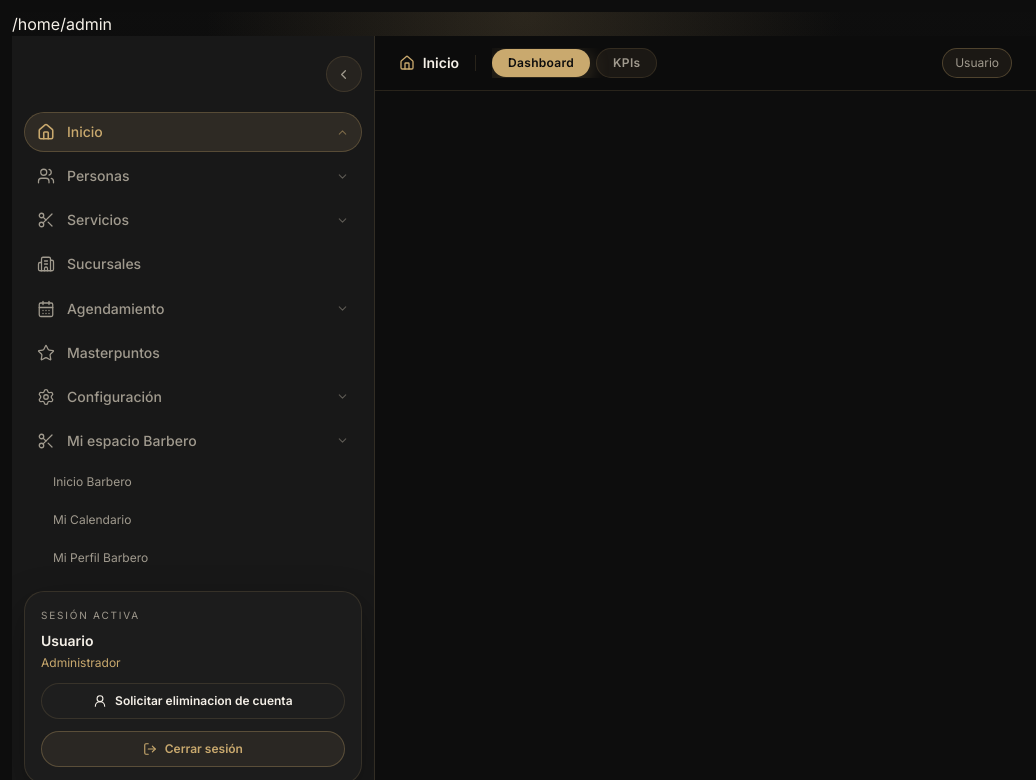
Test: escritorio: cambia de panel, navega y vuelve con la misma sesión admin
The width and height of the screenshot is (1036, 780).
Click the button named "Colapsar sidebar" at (344, 74), box [326, 56, 362, 92]
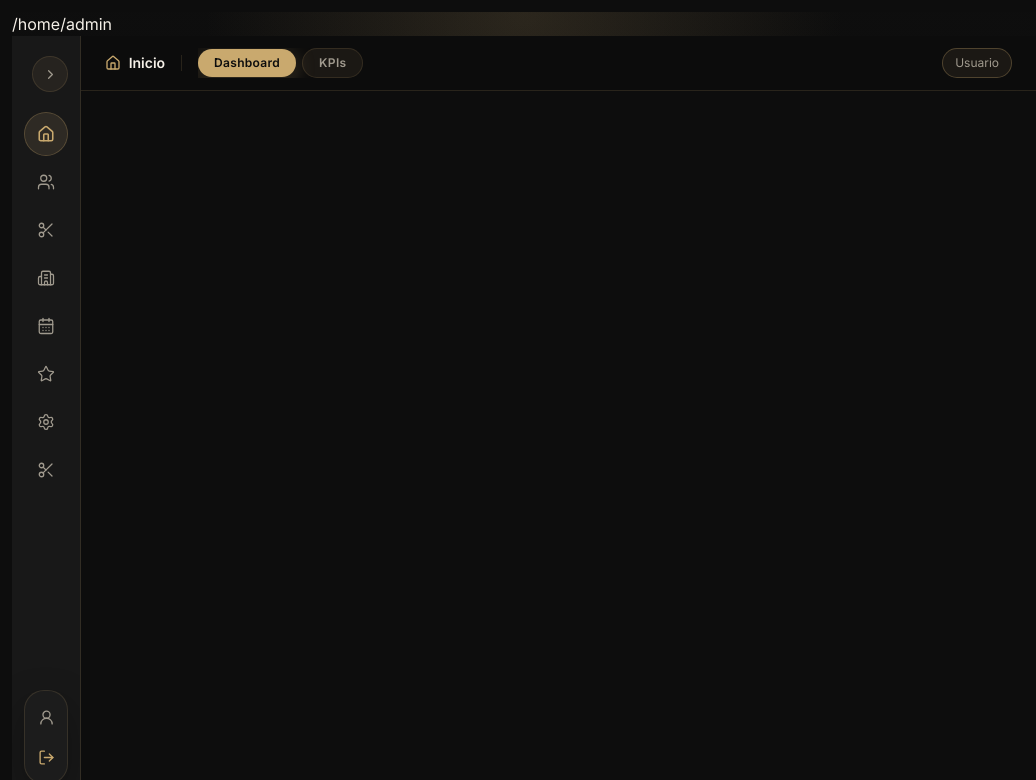
Check: the button named "Mi espacio Barbero" has attribute title="Mi espacio Barbero"
Click the button named "Mi espacio Barbero" at (46, 470), box [24, 448, 68, 492]
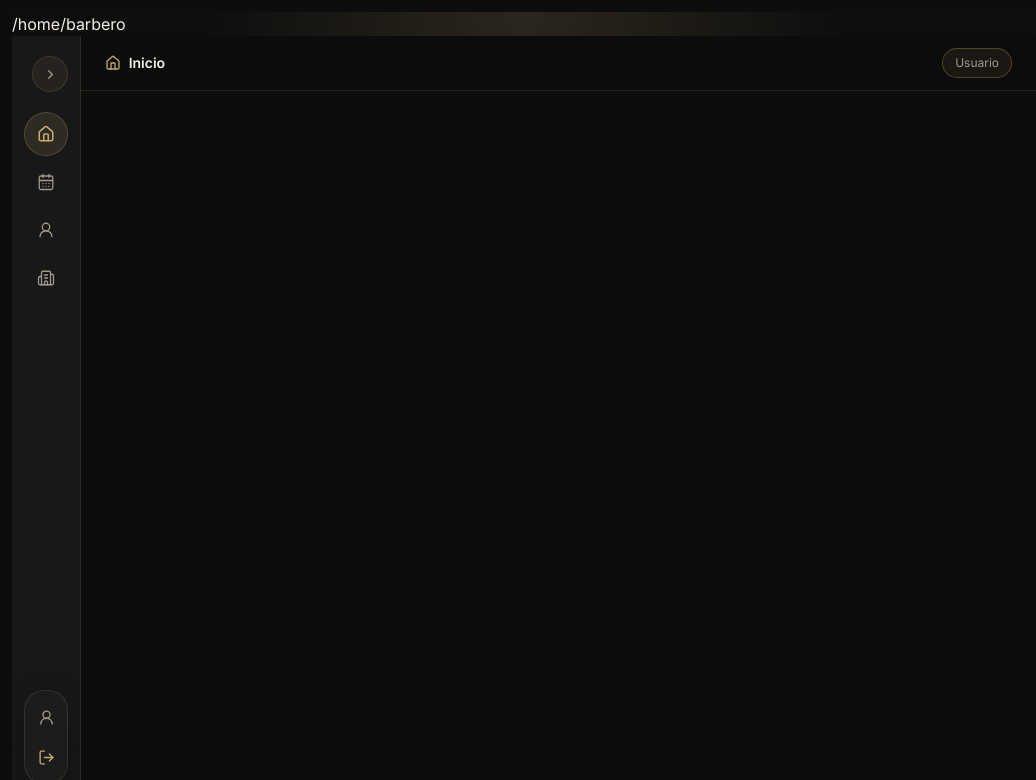
Check: the text with test id "location" reads "/home/barbero", box [12, 14, 126, 34]
Click the button named "Calendario" at (46, 182), box [24, 160, 68, 204]
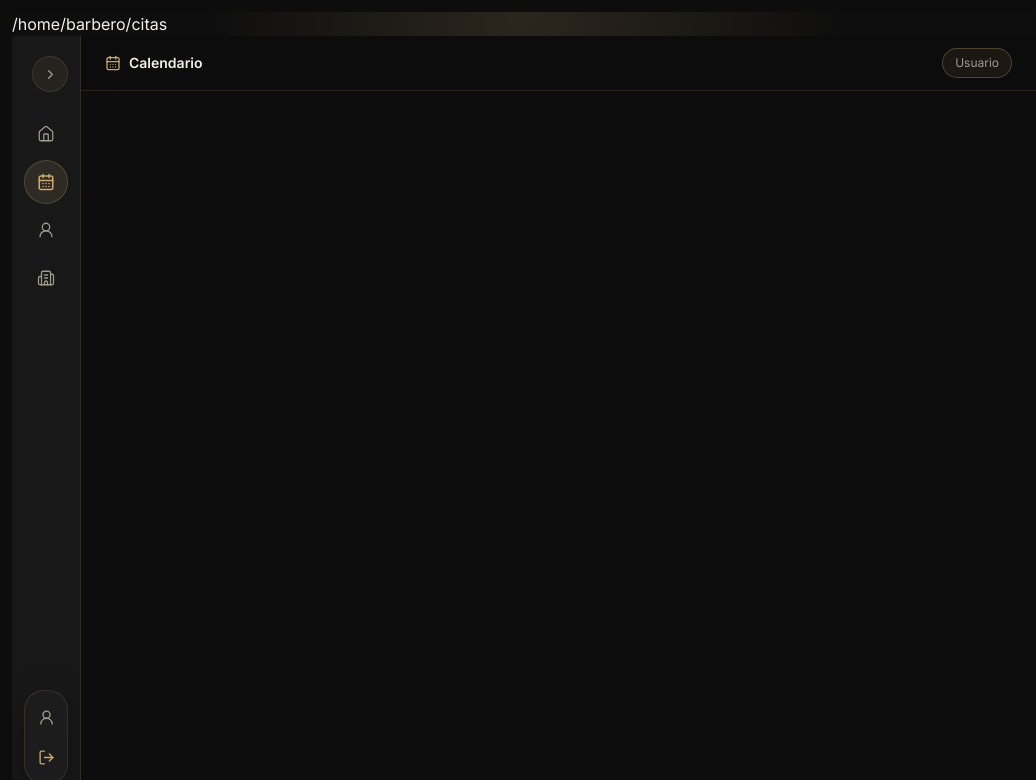
Check: the text with test id "location" reads "/home/barbero/citas", box [12, 14, 167, 34]
Click the button named "Perfil Barbero" at (46, 230), box [24, 208, 68, 252]
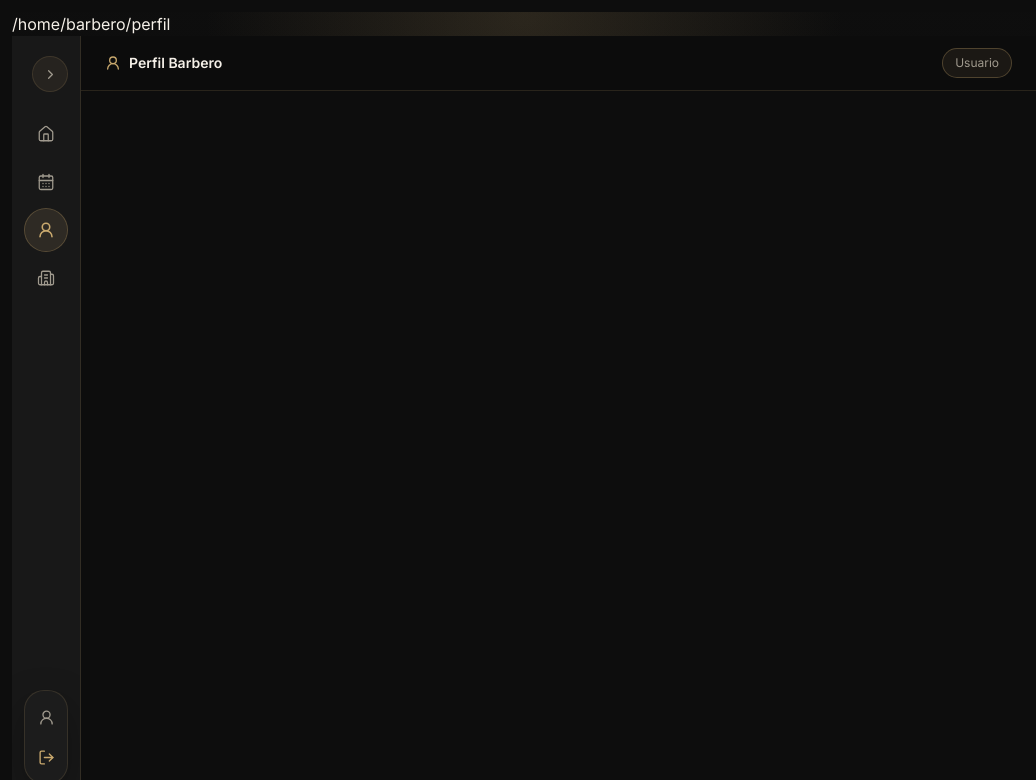
Check: the text with test id "location" reads "/home/barbero/perfil", box [12, 14, 170, 34]
Click the button named "Volver a Administración" at (46, 278), box [24, 256, 68, 300]
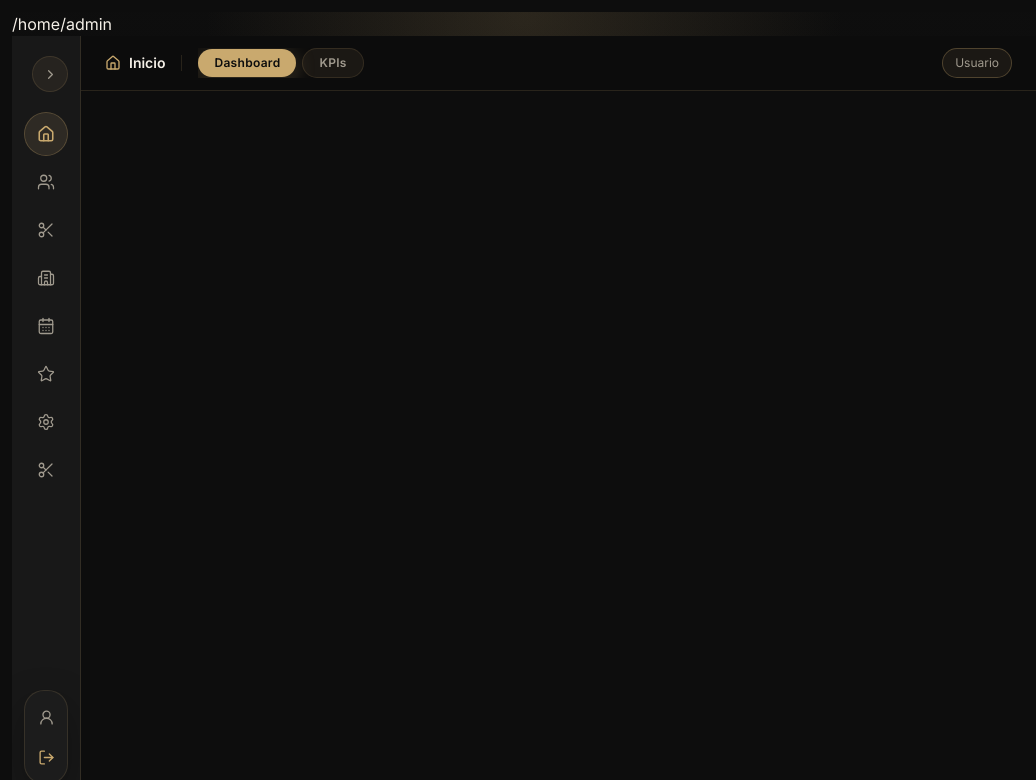
Check: the text with test id "location" reads "/home/admin", box [12, 14, 112, 34]
